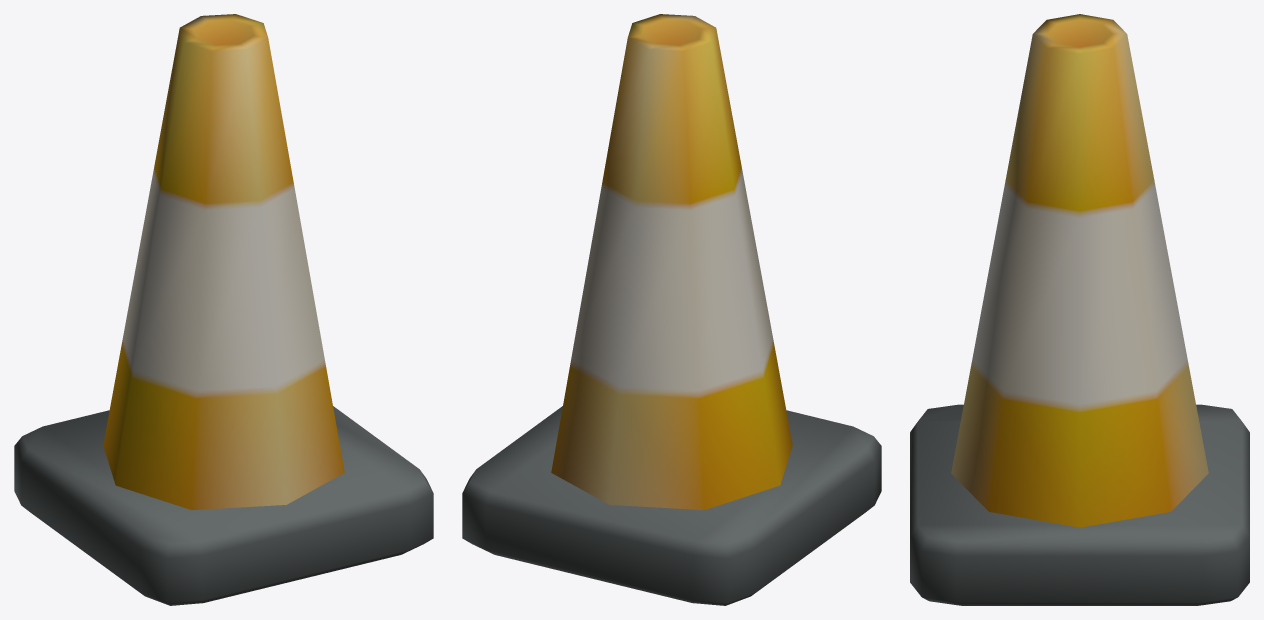
Rendered from RoadWorksCone.glb.
3 views of the same model, side by side, from view 1: azimuth 30°, elevation 25°; view 2: azimuth 150°, elevation 25°; view 3: azimuth 270°, elevation 25° (orthographic). The views are drawn at different scales.
Parts seen in each view (by area): view 1: RoadWorkCone; view 2: RoadWorkCone; view 3: RoadWorkCone.
Part boxes in pixels (x1,y1,x2,y2): RoadWorkCone: [14, 14, 433, 605]; RoadWorkCone: [462, 14, 881, 605]; RoadWorkCone: [910, 14, 1249, 605].
Bounding box in the file's own units: 0.6196 × 1.01 × 0.6196.
